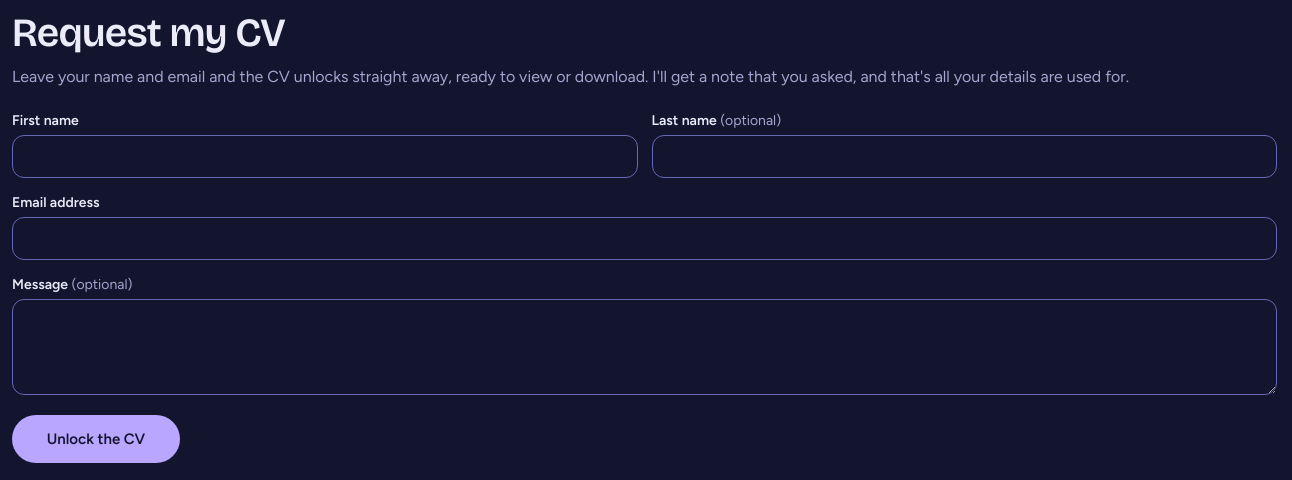
CVRequestForm › posts the form to the CV API and unlocks the CV
In the field labelled "First name": (325, 156) [12,135,638,178], type "Ada"
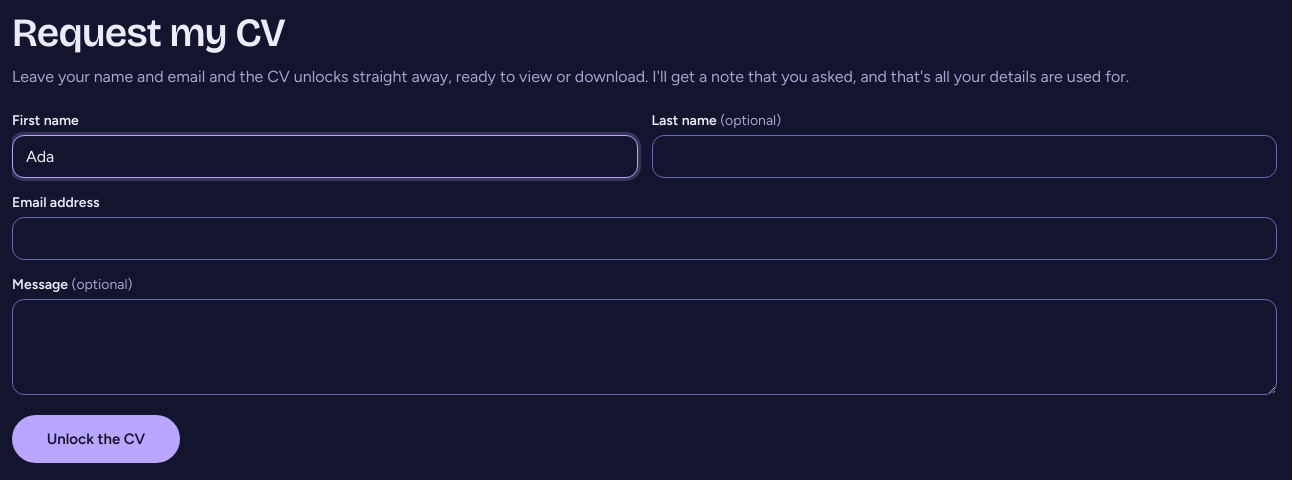
In the field labelled "Last name (optional)": (964, 156) [652,135,1277,178], type "Lovelace"
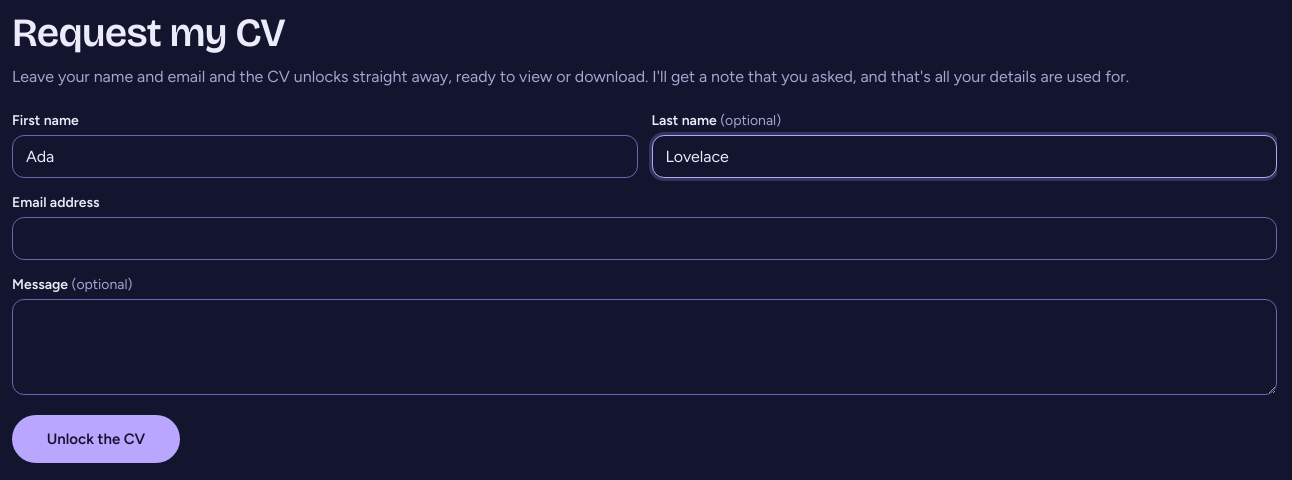
In the field labelled "Email address": (644, 238) [12,217,1277,260], type "ada@example.com"
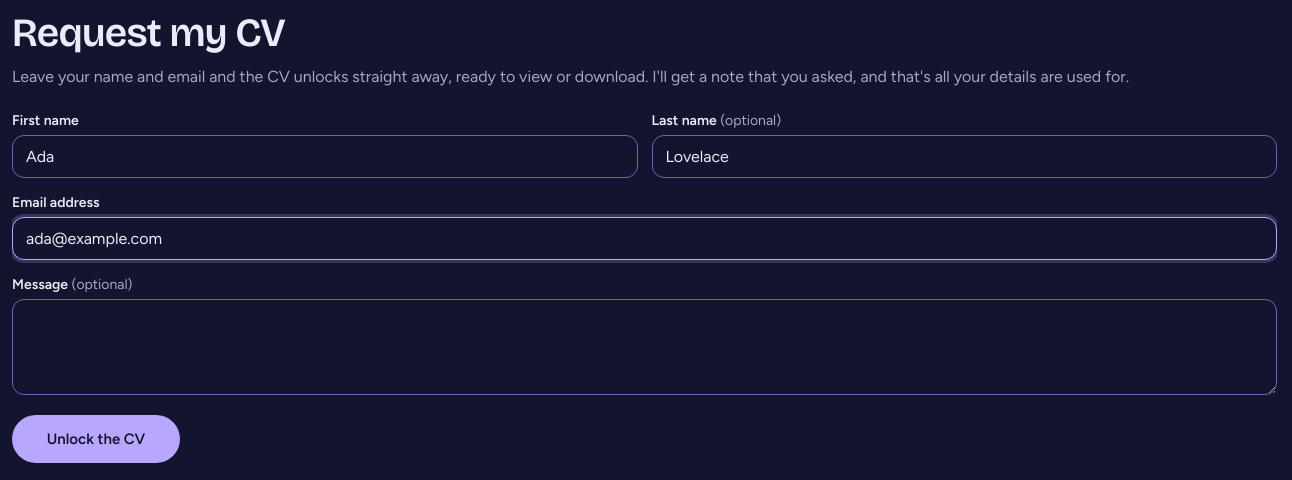
In the text box labelled "Message (optional)": (644, 347) [12,299,1277,395], type "Hello"
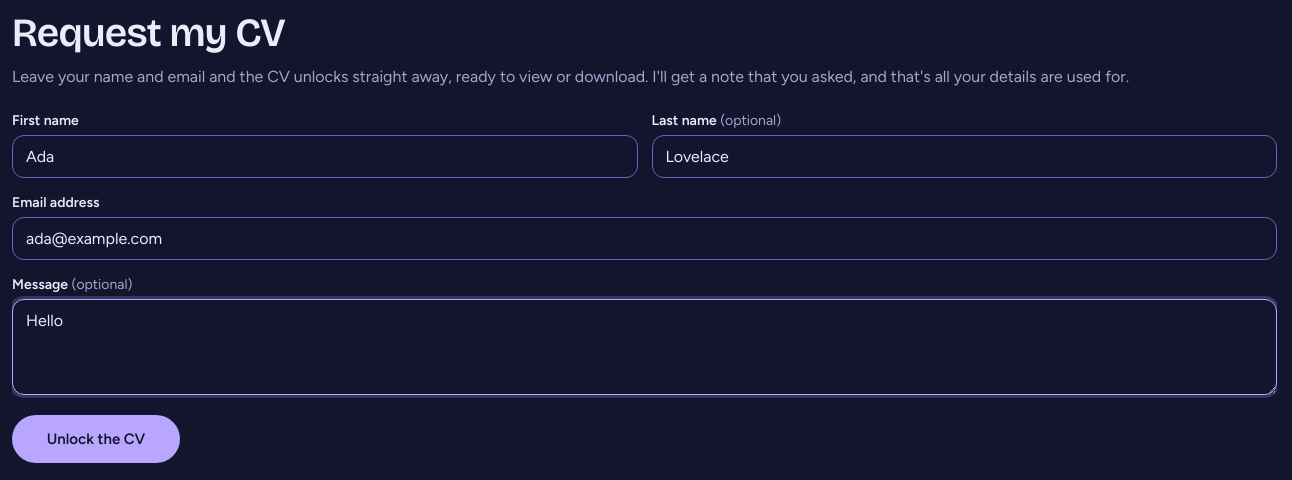
Click the button "Unlock the CV": (96, 439) [12,415,180,463]
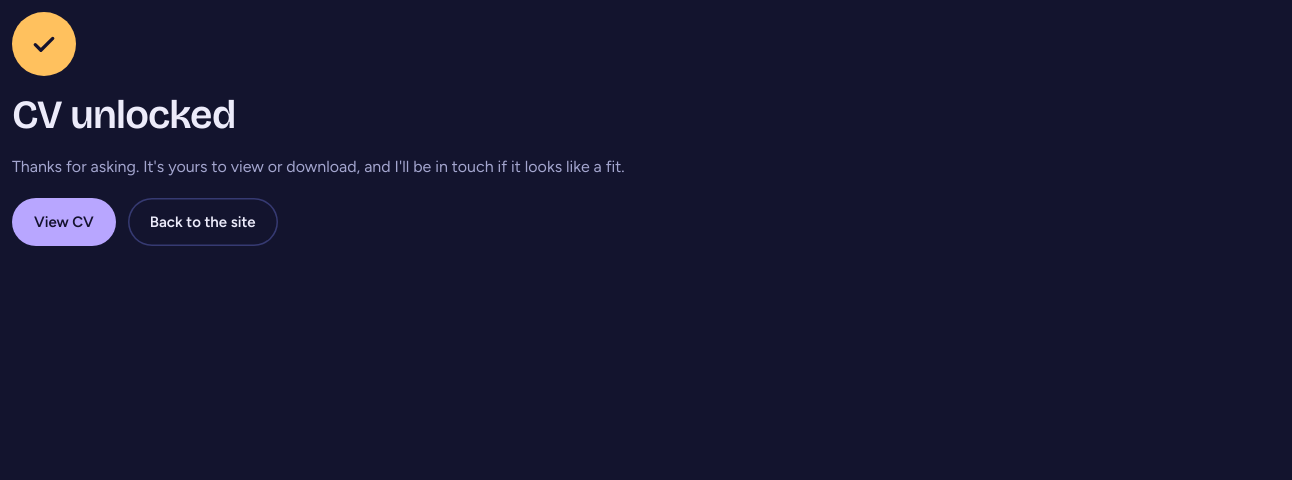
expect the heading "CV unlocked" is shown: met, box [12,91,235,139]
expect the text "I'll be in touch" is shown: met, box [12,157,625,176]
